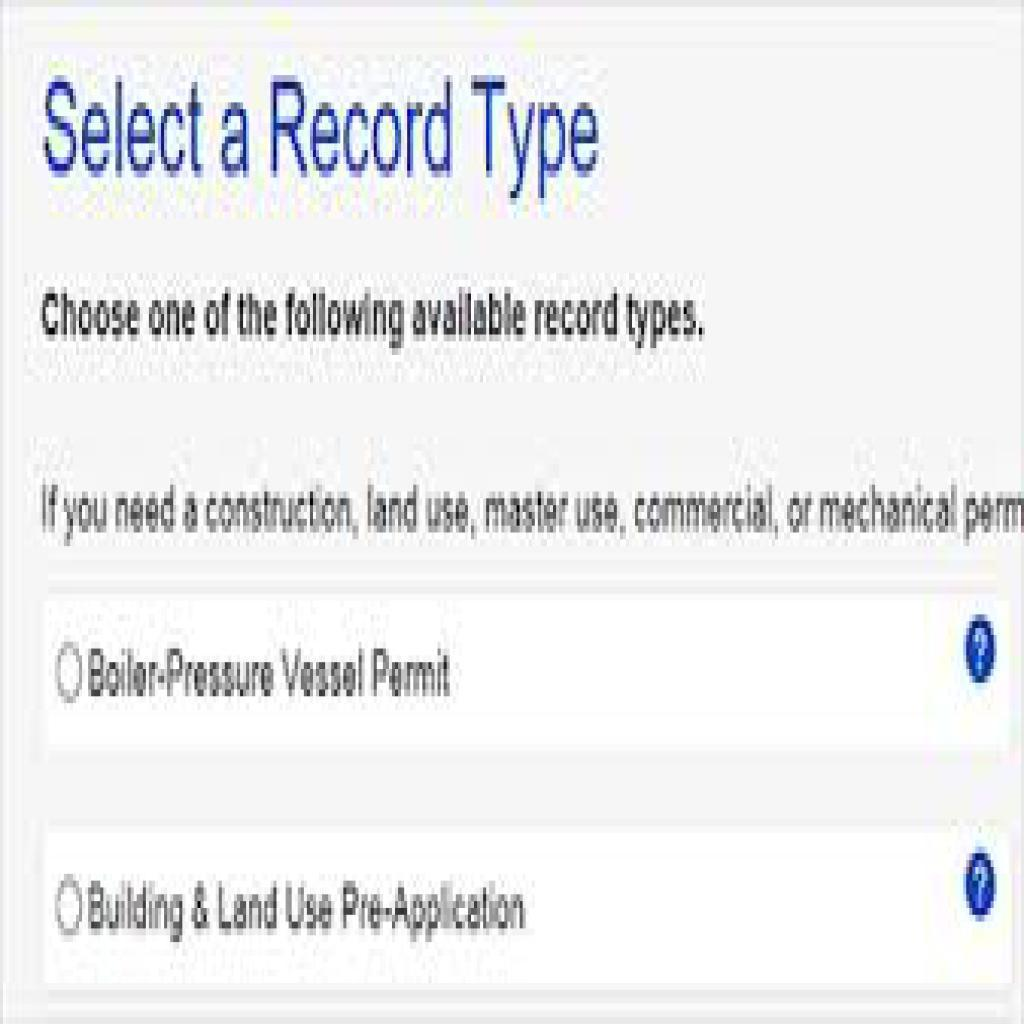icon: (965, 851, 1001, 923), (967, 618, 998, 685)
label: (90, 882, 528, 941), (87, 644, 457, 702)
radio: (54, 871, 86, 938), (54, 639, 83, 709)
